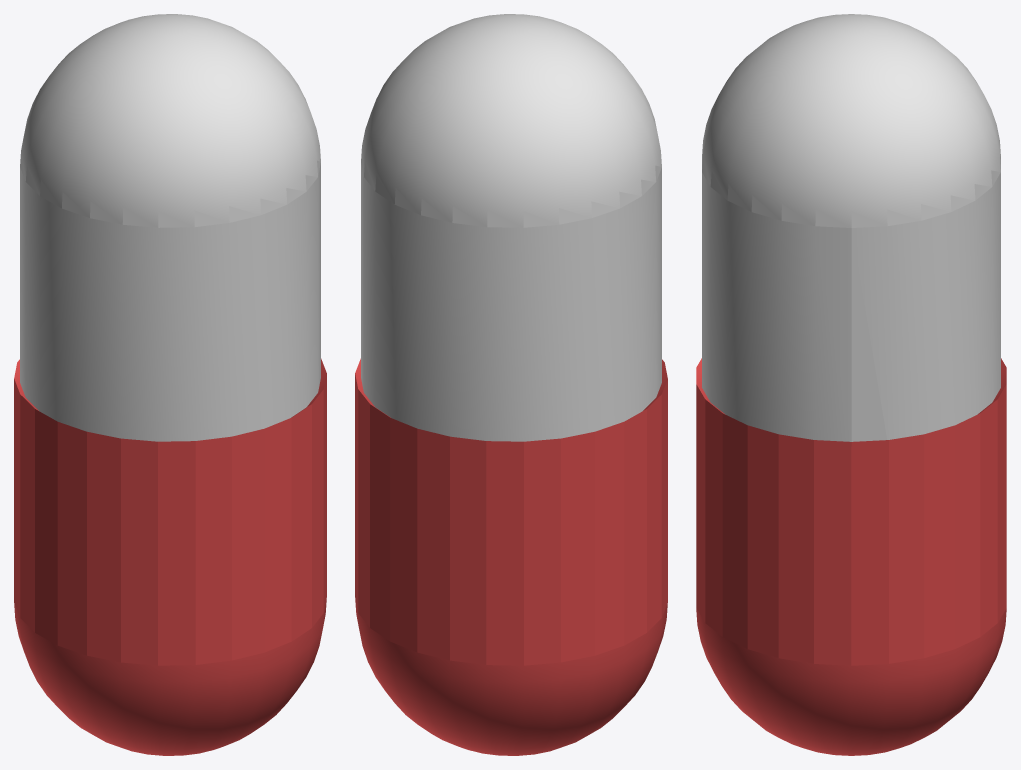
File: CapsulePill.fbx
The picture shows the model from 3 angles, left to right: view 1: azimuth 30°, elevation 25°; view 2: azimuth 150°, elevation 25°; view 3: azimuth 270°, elevation 25°; orthographic projection.
Parts seen in each view (by area): view 1: pill, pill_2; view 2: pill, pill_2; view 3: pill, pill_2.
Part boxes in pixels (left/top/right/bottom): pill: left=20, top=14, right=320, bottom=441; pill_2: left=14, top=358, right=326, bottom=755; pill: left=361, top=14, right=661, bottom=441; pill_2: left=355, top=358, right=667, bottom=755; pill: left=702, top=14, right=1000, bottom=441; pill_2: left=696, top=358, right=1006, bottom=755.
Size of the model in its own units: 0.7504 by 1.89 by 0.7449.
